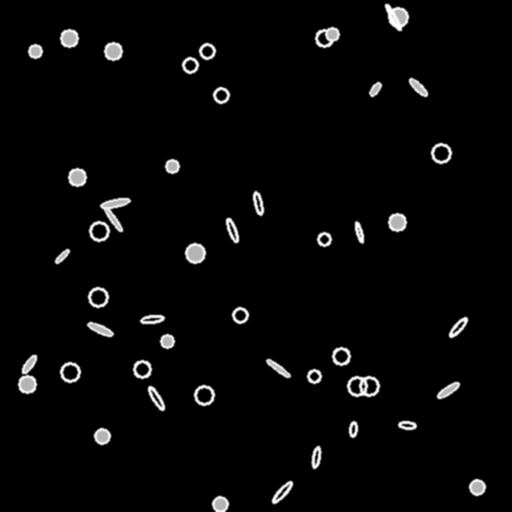pseudomonas: (271, 480, 293, 504), (265, 358, 291, 378), (103, 206, 123, 232), (384, 3, 402, 31), (447, 316, 469, 338), (436, 380, 460, 400), (147, 385, 165, 411), (87, 321, 113, 337), (408, 77, 428, 97), (20, 354, 38, 374), (101, 197, 129, 209), (225, 218, 239, 242), (252, 191, 264, 215), (368, 81, 382, 97), (354, 222, 364, 242), (311, 447, 321, 467), (55, 249, 69, 263), (141, 315, 163, 323), (399, 421, 415, 429), (349, 421, 357, 437)
synechocystis: (61, 363, 79, 381), (432, 144, 450, 162), (360, 377, 378, 395), (89, 288, 107, 306), (389, 8, 407, 26), (90, 222, 108, 240), (195, 386, 213, 404), (348, 377, 366, 395), (186, 244, 204, 262), (69, 169, 85, 185), (134, 361, 150, 377), (333, 348, 349, 364), (316, 30, 332, 46), (105, 43, 121, 59), (61, 30, 77, 46), (389, 214, 405, 230), (19, 376, 35, 392), (95, 429, 109, 443), (233, 308, 247, 322), (213, 497, 227, 511), (214, 88, 228, 102), (200, 44, 214, 58), (183, 58, 197, 72), (470, 480, 484, 494), (318, 233, 330, 245), (166, 160, 178, 172), (308, 370, 320, 382), (161, 335, 173, 347), (29, 45, 41, 57), (326, 28, 338, 40)
